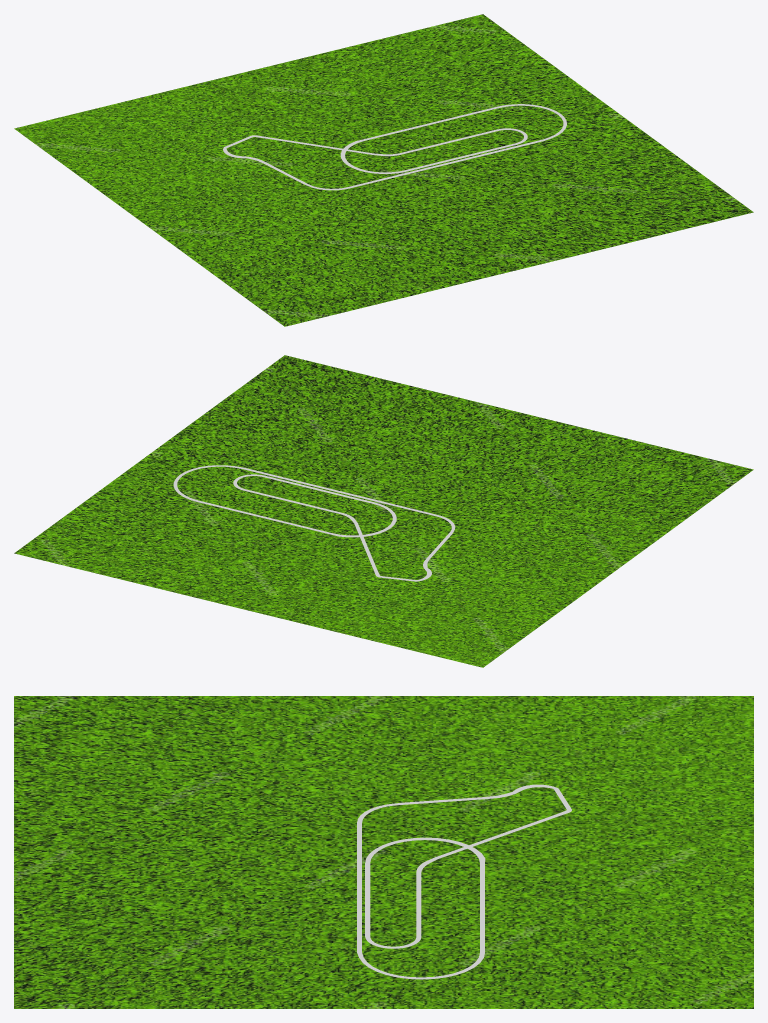
Rendered from mHistoricReduxV5.2.glb.
The picture shows the model from 3 angles, top to bottom: view 1: azimuth 30°, elevation 25°; view 2: azimuth 150°, elevation 25°; view 3: azimuth 270°, elevation 25°; orthographic projection. The views are drawn at different scales.
Visible parts, largest first — view 1: ground; view 2: ground; view 3: ground, straightOne, Circle.
Boxes of the visible parts, x1=… form: ground: x1=14, y1=14, x2=753, y2=326; ground: x1=14, y1=355, x2=753, y2=667; ground: x1=14, y1=696, x2=753, y2=1008; straightOne: x1=357, y1=823, x2=361, y2=952; Circle: x1=365, y1=837, x2=485, y2=863.
Size of the model in its own units: 3545 by 3.74 by 3545.
Materials: 1 (1 with a texture image).
